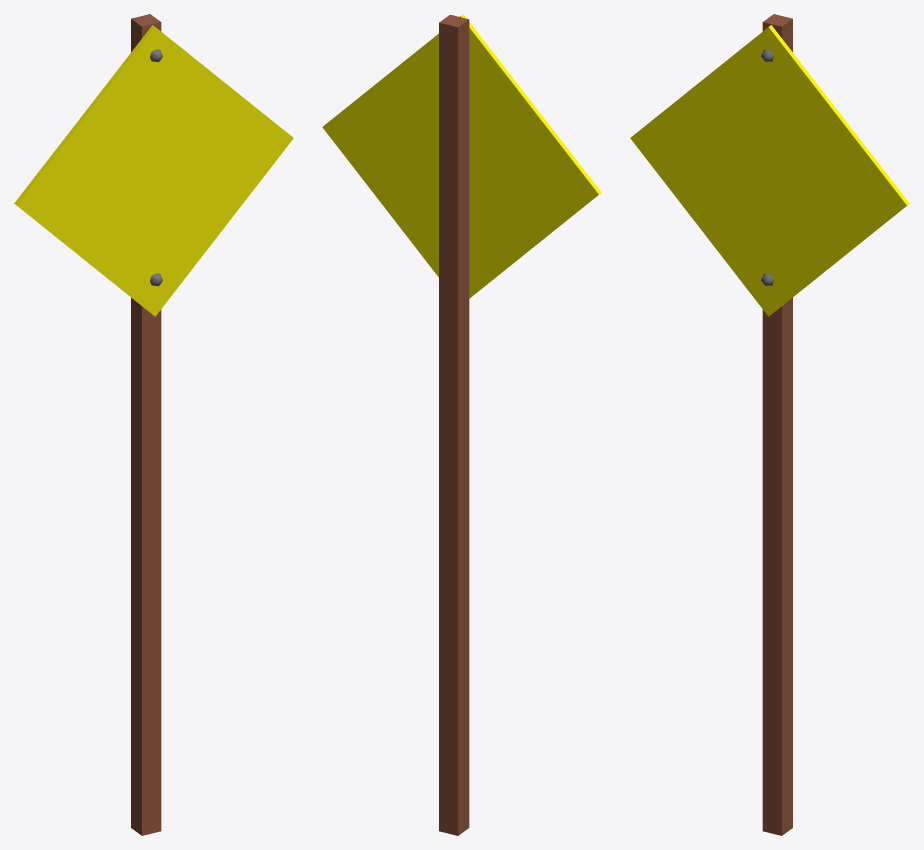
Rendered from sign_dia.fbx.
The picture shows the model from 3 angles, left to right: view 1: azimuth 30°, elevation 25°; view 2: azimuth 150°, elevation 25°; view 3: azimuth 330°, elevation 25°; orthographic projection.
Visible parts, largest first — view 1: sign, pole; view 2: sign, pole; view 3: sign, pole.
Boxes of the visible parts, x1,y1,x2,y2 form: sign: [14, 25, 293, 316]; pole: [131, 14, 161, 835]; sign: [322, 14, 601, 298]; pole: [439, 14, 469, 835]; sign: [630, 25, 909, 316]; pole: [762, 14, 792, 835].
Bounding box in the file's own units: 27.13 × 75.78 × 3.19.
